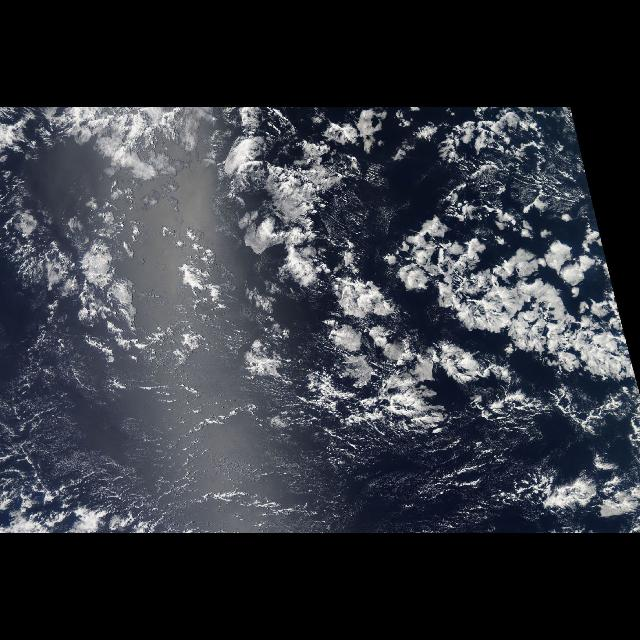Fish: (260, 161, 640, 395)
Flower: (1, 186, 158, 364), (326, 264, 436, 392)
Sugar: (4, 345, 516, 523)
